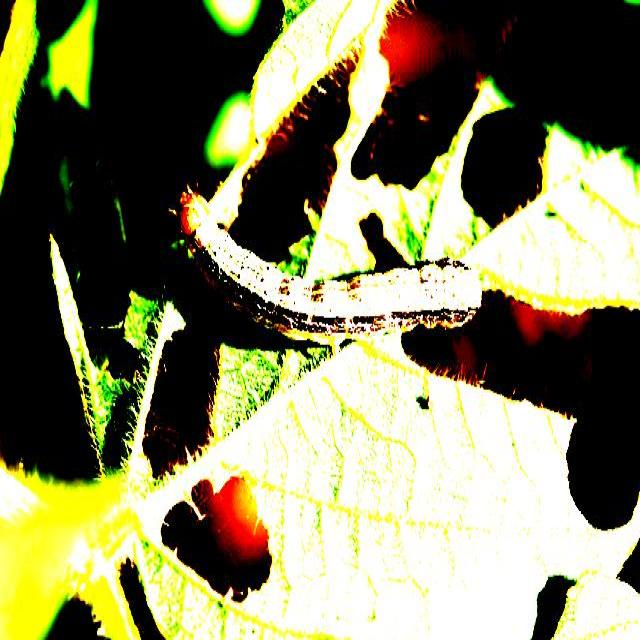Armyworm: (145, 169, 491, 401)
Armyworm_damage: (160, 436, 289, 622)
